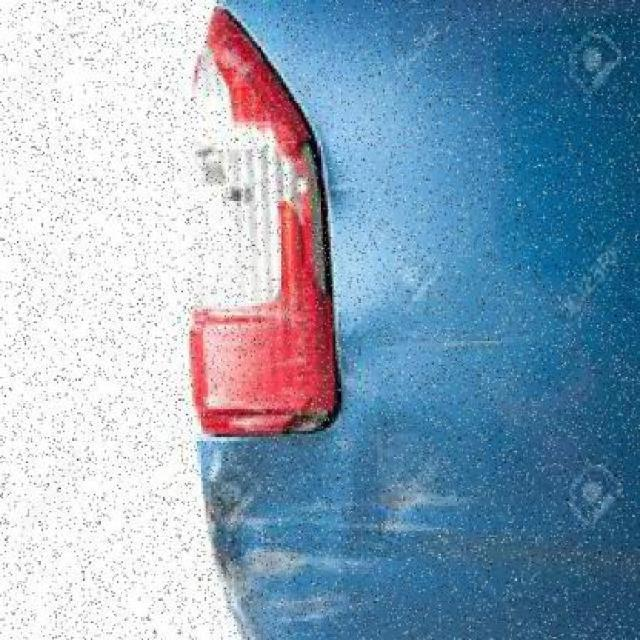Taillight-Damage: (157, 0, 352, 464)
rear-bumper-dent: (139, 376, 640, 639)
